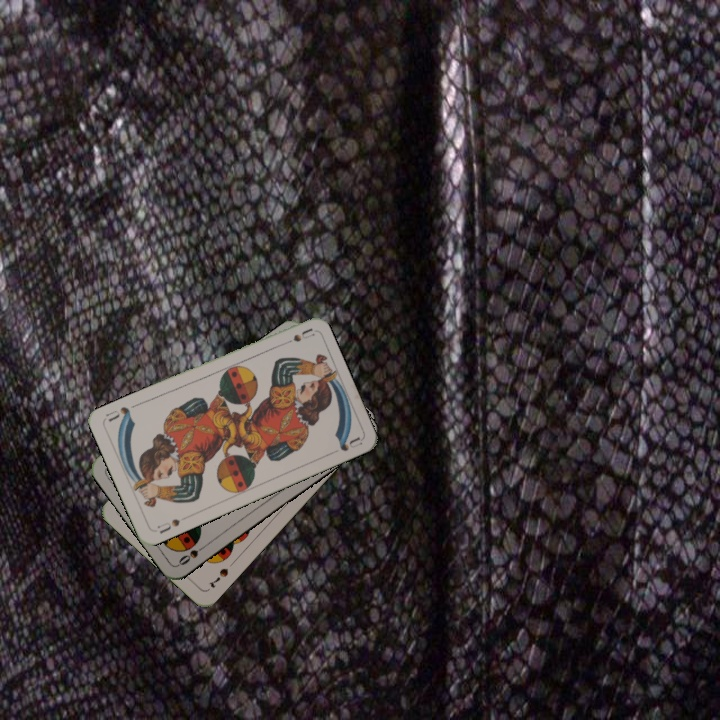S7: (205, 564, 231, 591)
SO: (174, 540, 210, 568)
SU: (276, 325, 316, 349), (153, 514, 182, 537)
